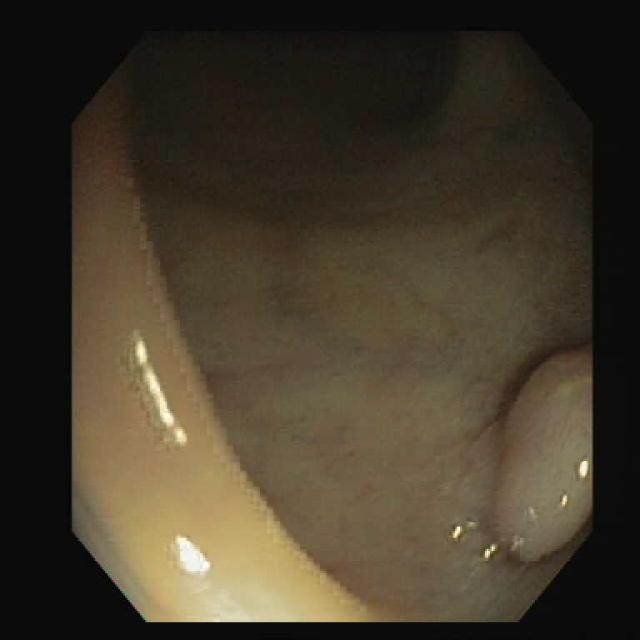tumor: (492, 347, 592, 560)
